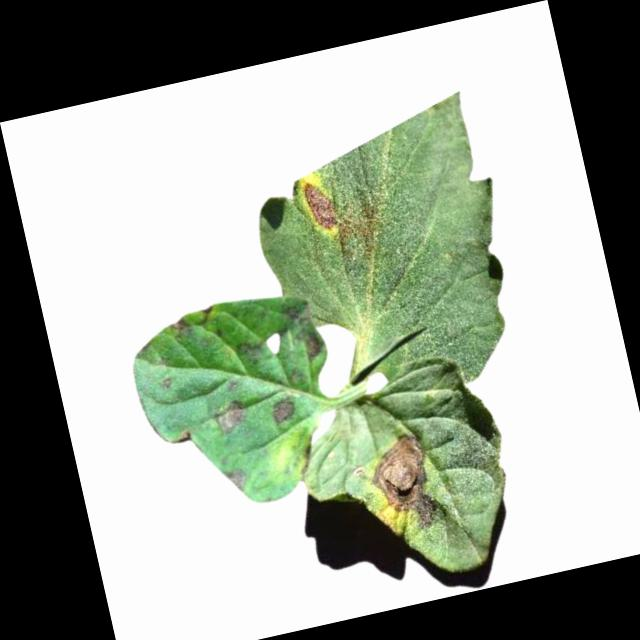Early_blight: (361, 429, 448, 537), (298, 177, 342, 234), (205, 395, 249, 436), (264, 395, 297, 425), (221, 464, 249, 494), (301, 329, 324, 360), (167, 315, 189, 332)
